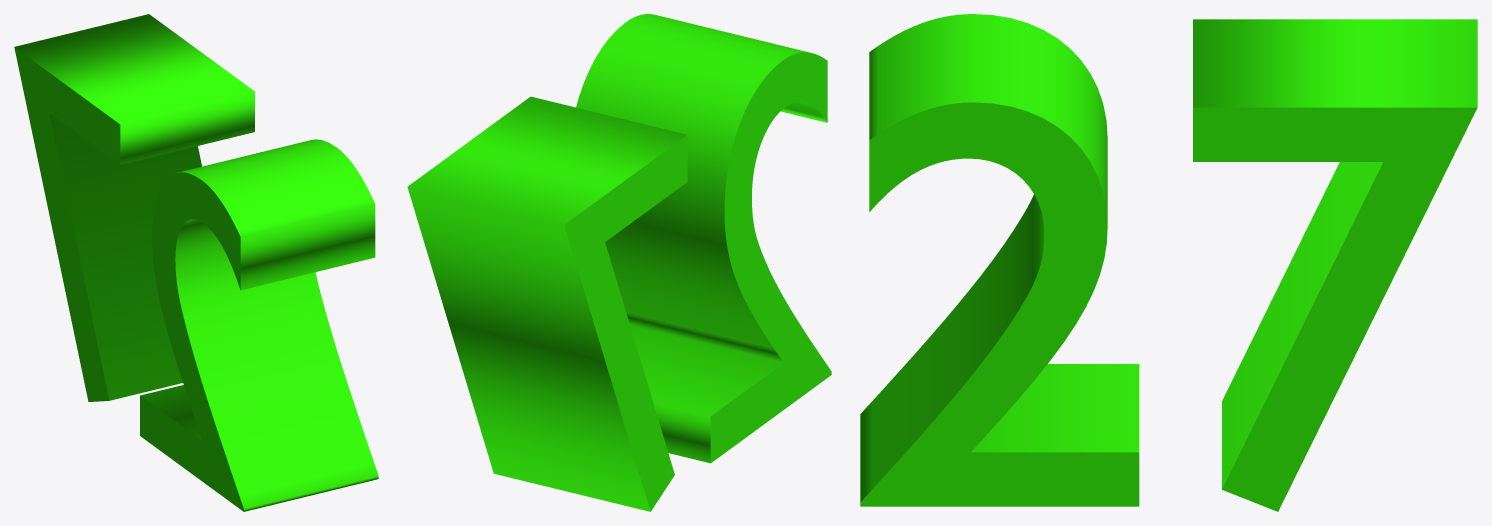
Rendered from number27.obj.
3 views of the same model, side by side, from view 1: azimuth 30°, elevation 25°; view 2: azimuth 150°, elevation 25°; view 3: azimuth 270°, elevation 25° (orthographic). The views are drawn at different scales.
Parts seen in each view (by area): view 1: Text.013_Text.020; view 2: Text.013_Text.020; view 3: Text.013_Text.020.
Part boxes in pixels (x1,y1,x2,y2): Text.013_Text.020: [14, 14, 378, 511]; Text.013_Text.020: [407, 14, 831, 511]; Text.013_Text.020: [860, 14, 1477, 511].
Bounding box in the file's own units: 2.23 × 4.83 × 6.59.
